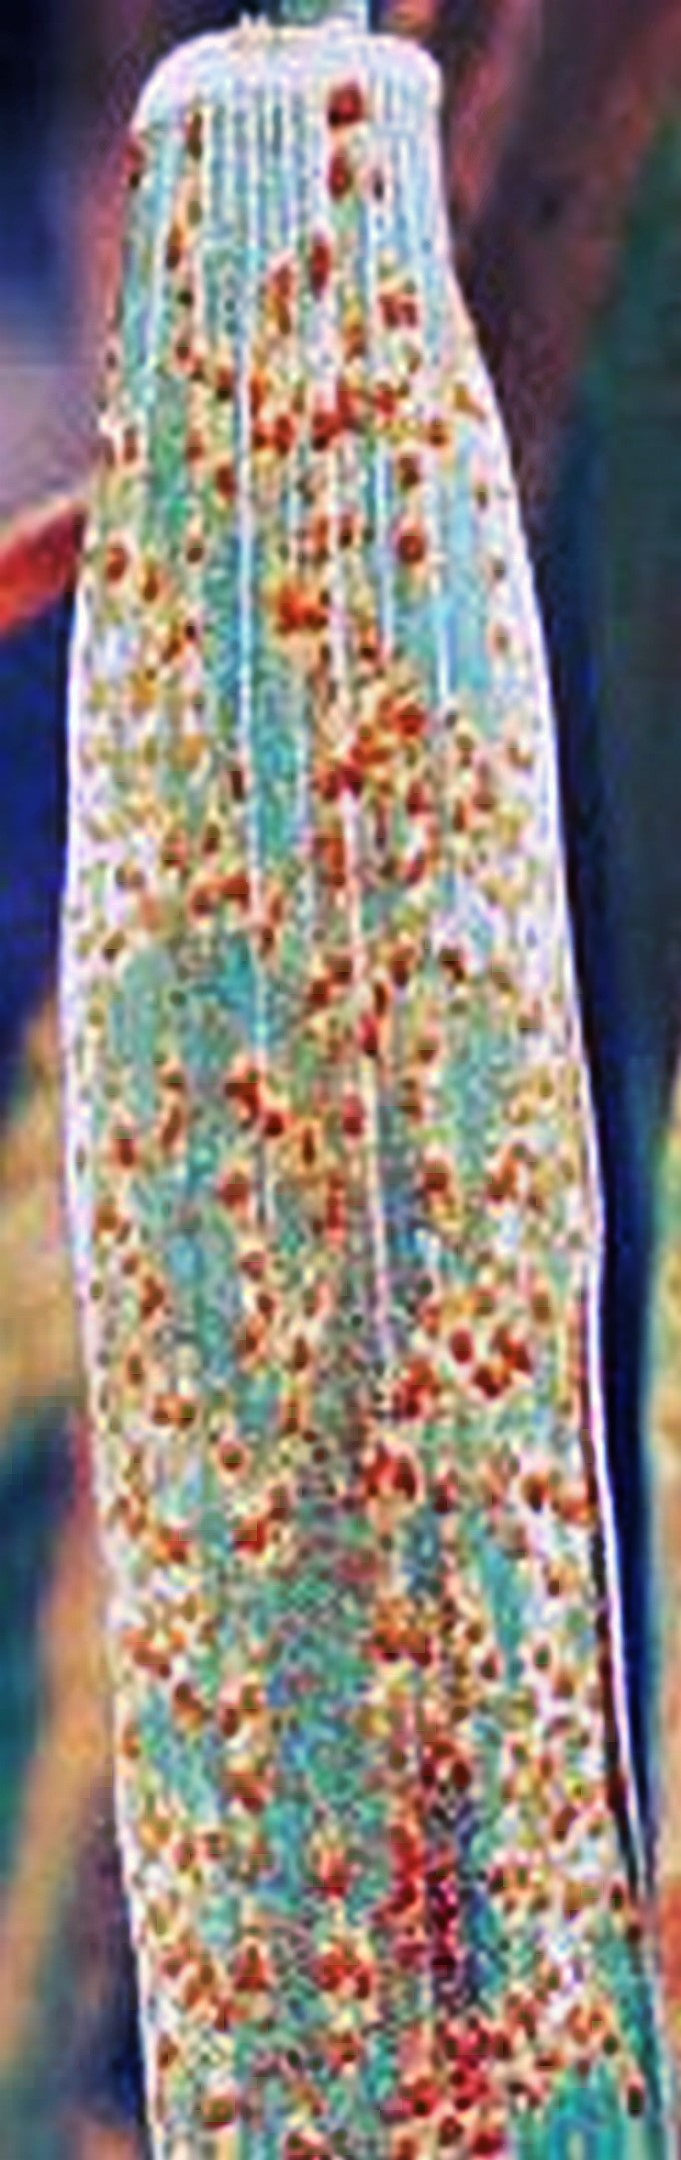Leaf Rust: (61, 194, 674, 2054)
